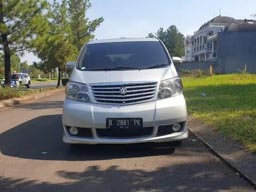plat: (106, 117, 143, 125)
